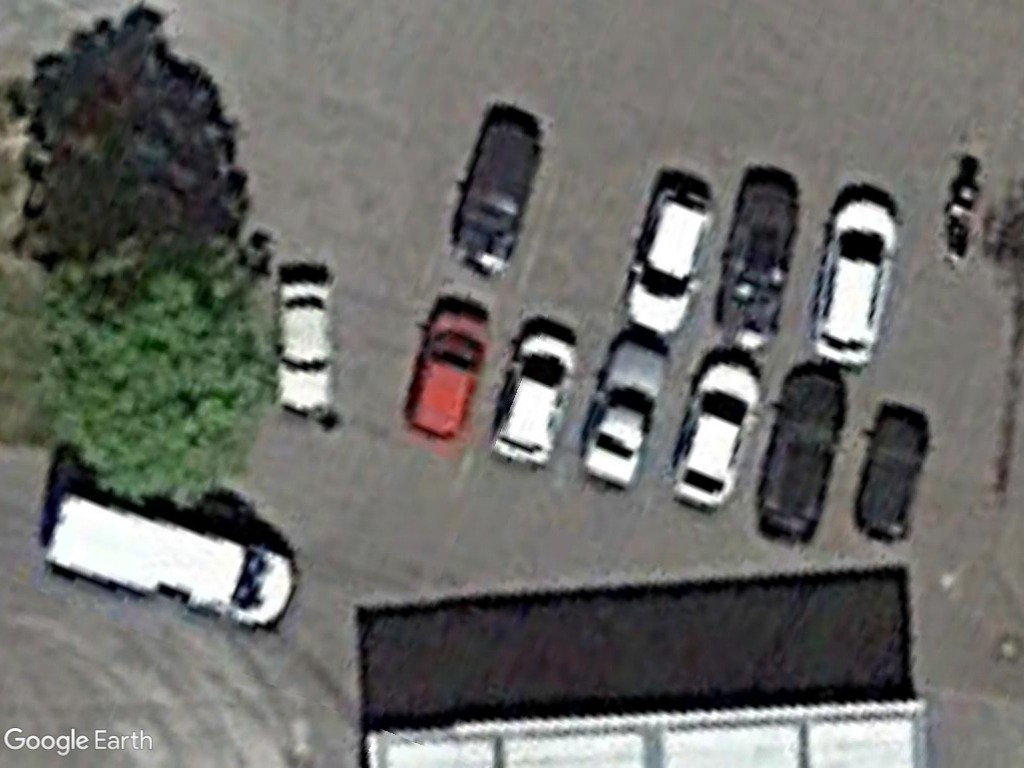car: (807, 197, 907, 372), (572, 336, 667, 492), (667, 355, 760, 512), (624, 189, 715, 336), (402, 302, 489, 448), (489, 328, 578, 468), (271, 274, 342, 421)
van: (42, 487, 301, 637)
